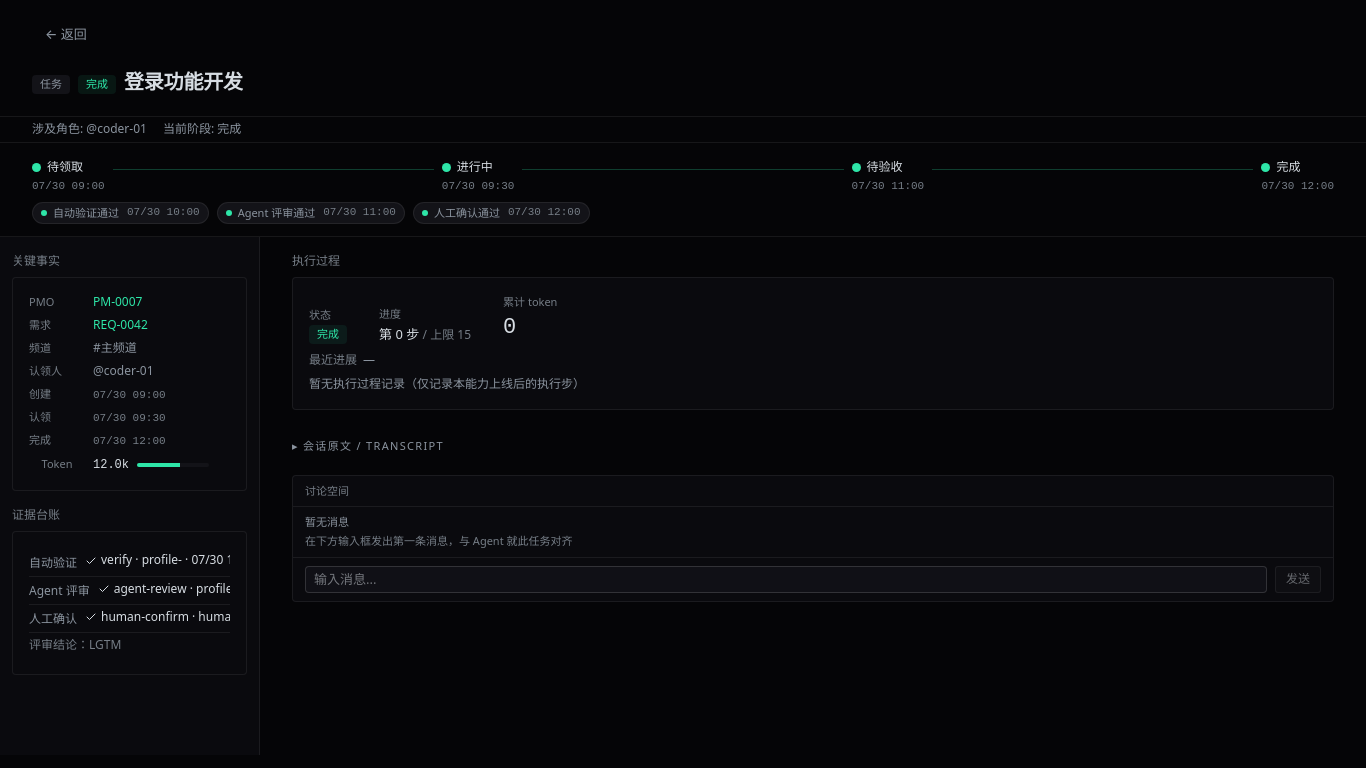
Test case: WorkUnitDetailPage › Token 事实行点击打开图表面板（双 stat + 堆叠条）
The width and height of the screenshot is (1366, 768).
What coordinates should you click on to do the following:
click the button "Token 12.0k"
I would click on:
 (130, 465)
Its box is [29,456,230,474].
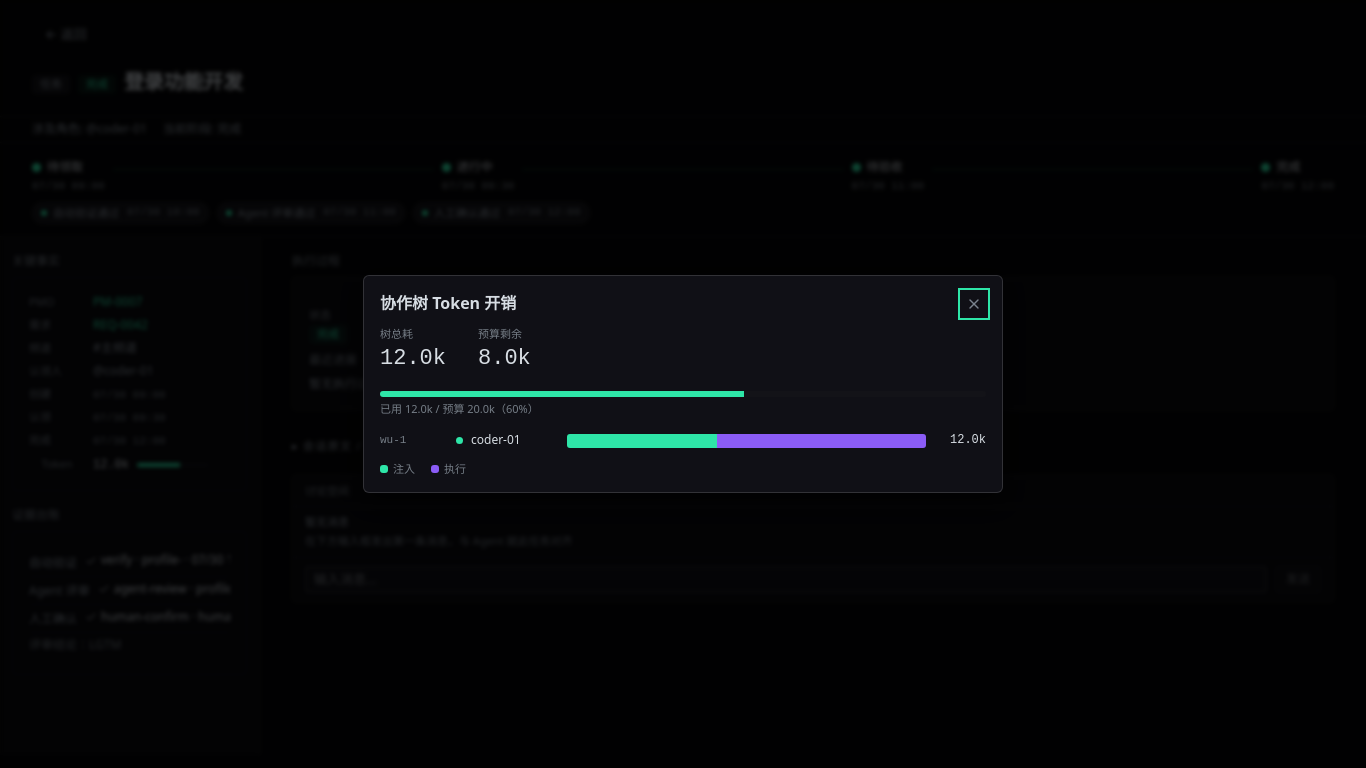
Check: the heading "协作树 Token 开销" is shown, box [380,292,516,315]
Check: the text "树总耗" is shown, box [380,326,413,341]
Check: the text "预算剩余" is shown, box [478,326,522,341]
